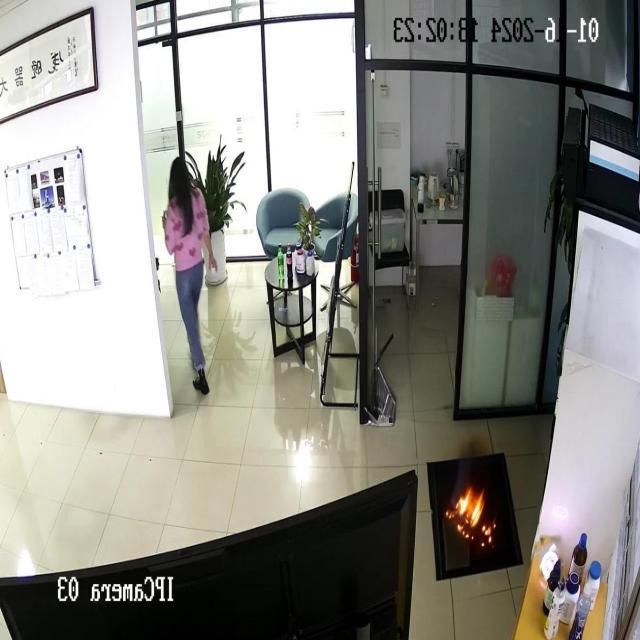smoke: (454, 492, 489, 545)
